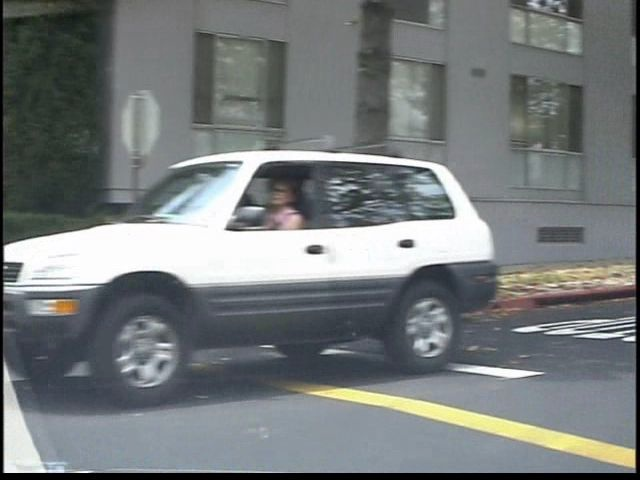person: (271, 168, 349, 388)
